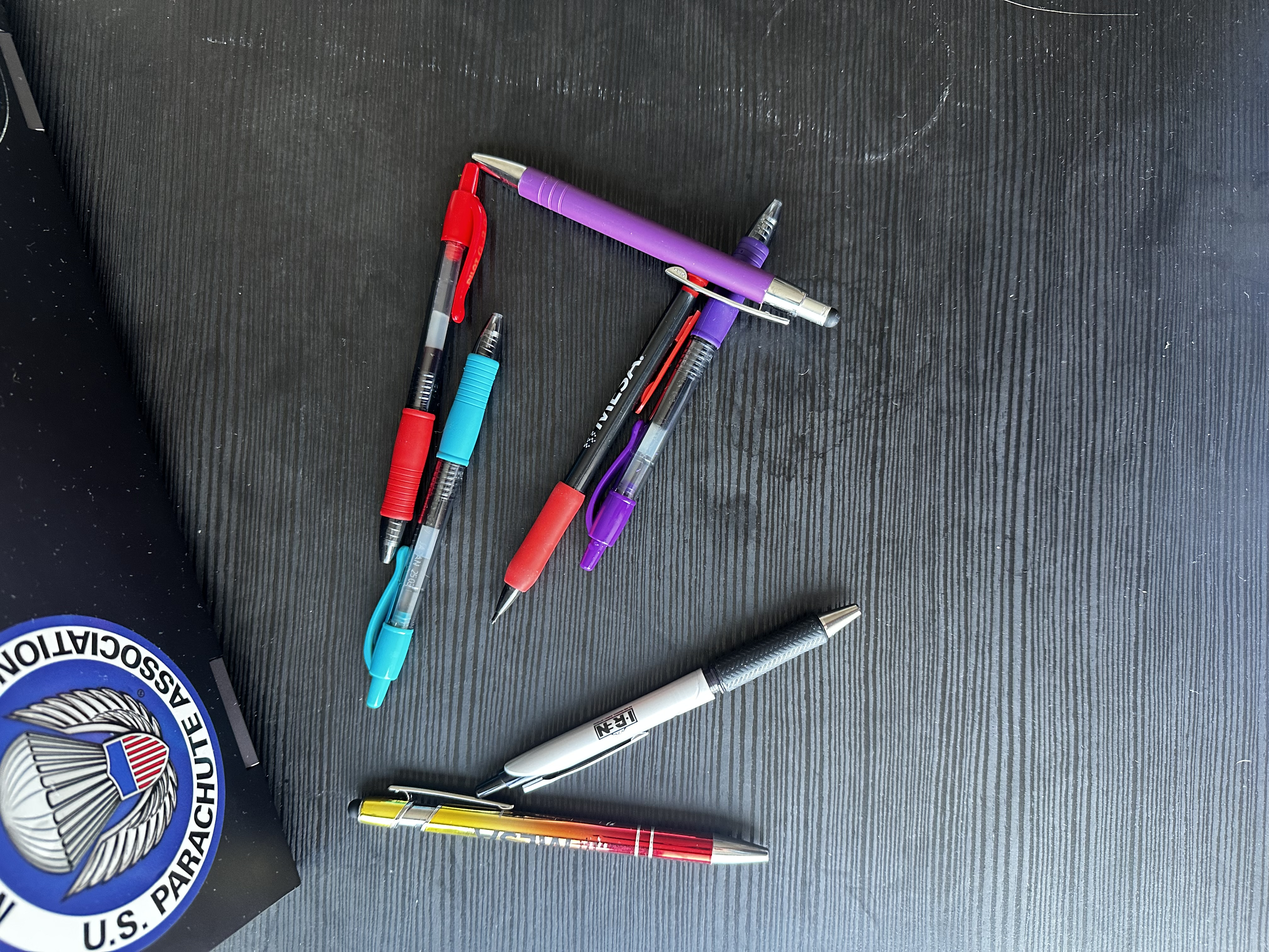Blue Pen: (363, 304, 511, 703)
Cypres Pen Purple: (467, 146, 842, 336)
MESA Multicolored pen: (350, 779, 775, 870)
Purple Pen: (579, 196, 781, 568)
Red Mechanical Pencil: (492, 264, 707, 618)
Red Pen: (380, 160, 484, 561)
Silver Pen: (465, 595, 859, 800)
